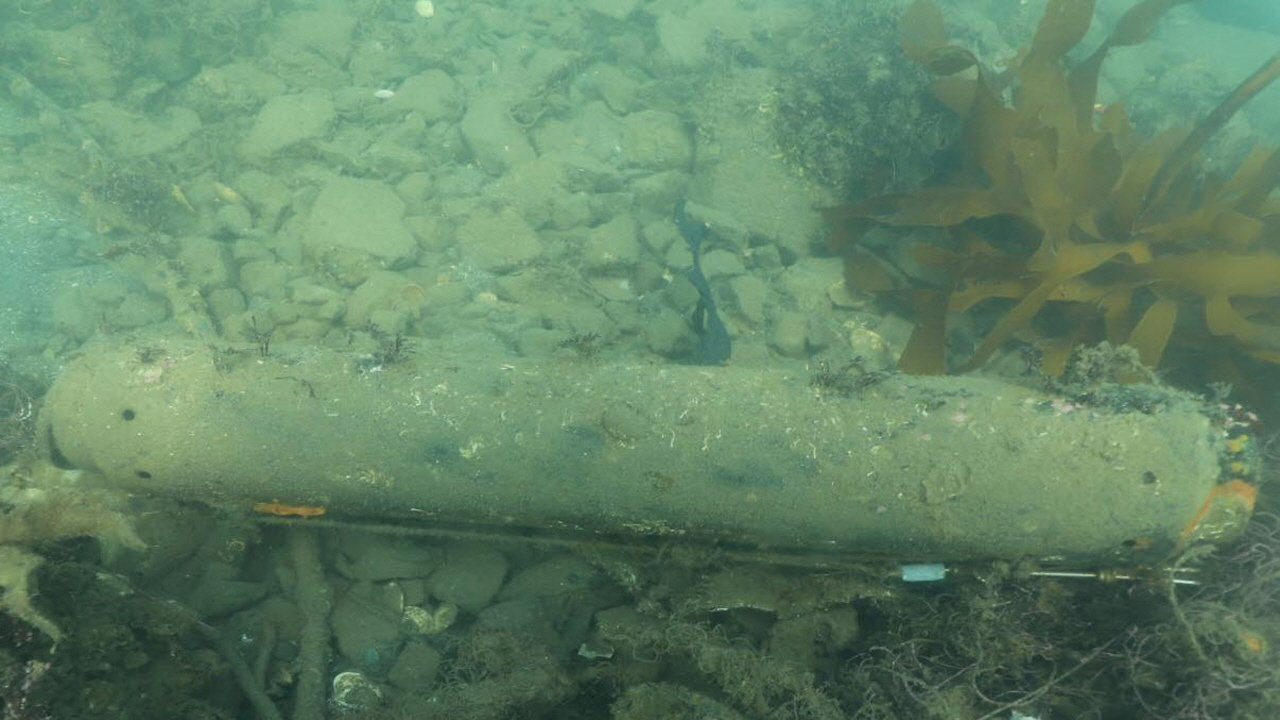eel fish trap: (37, 334, 1260, 557)
